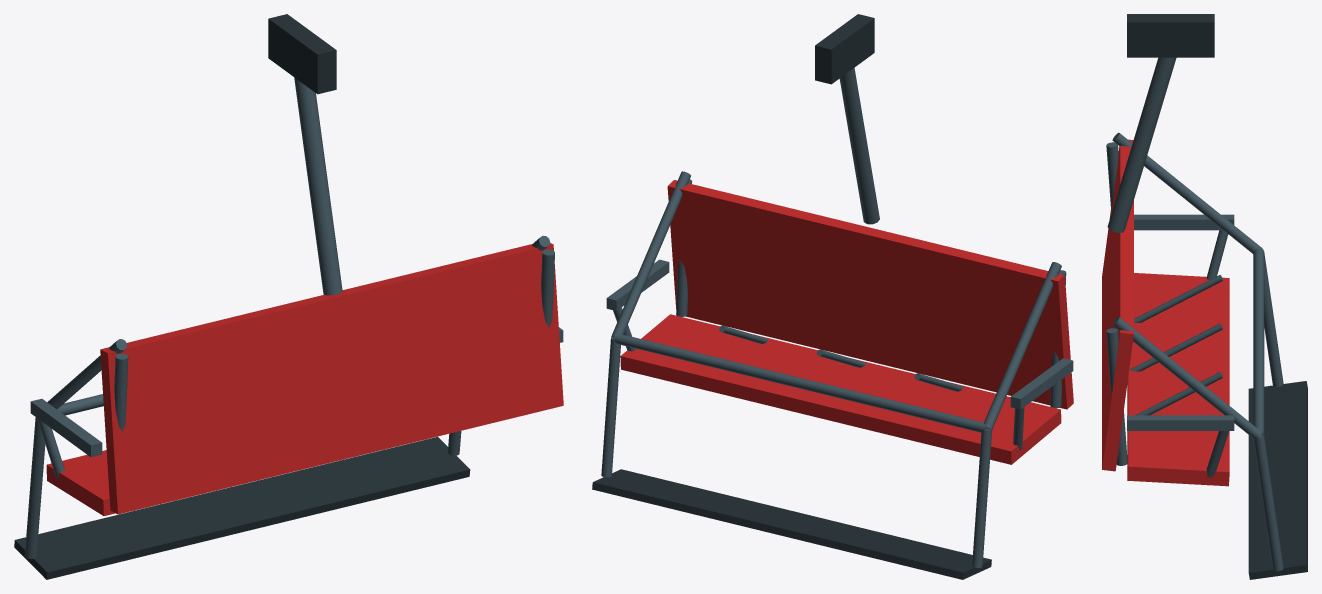
File: chair.glb
3 renders of one model, left to right at view 1: azimuth 30°, elevation 25°; view 2: azimuth 150°, elevation 25°; view 3: azimuth 270°, elevation 25°, orthographic. The views are drawn at different scales.
Visible parts, largest first — view 1: Backrest, Footrest, Hanger, Grip, SafetyBar, SeatPan, Chair, Armrest; view 2: Backrest, SeatPan, SafetyBar, Footrest, Grip, Chair, Hanger, Armrest (×2); view 3: SeatPan, Footrest, SafetyBar, Backrest, Chair, Grip, Hanger, Armrest (×2).
Part boxes in pixels (bbox=[...]): Backrest: bbox=[100, 243, 563, 514]; Footrest: bbox=[14, 436, 470, 579]; Hanger: bbox=[294, 77, 342, 295]; Grip: bbox=[268, 14, 336, 94]; SafetyBar: bbox=[24, 236, 549, 558]; SeatPan: bbox=[46, 450, 115, 515]; Chair: bbox=[37, 249, 554, 478]; Armrest: bbox=[30, 398, 102, 457]; Backrest: bbox=[667, 180, 1073, 409]; SeatPan: bbox=[620, 314, 1061, 464]; SafetyBar: bbox=[601, 171, 1061, 567]; Footrest: bbox=[592, 469, 991, 579]; Grip: bbox=[815, 14, 874, 84]; Chair: bbox=[613, 179, 1066, 450]; Hanger: bbox=[839, 68, 879, 224]; Armrest (×2): bbox=[606, 259, 1073, 409]; SeatPan: bbox=[1127, 273, 1229, 486]; Footrest: bbox=[1248, 381, 1307, 579]; SafetyBar: bbox=[1112, 132, 1283, 571]; Backrest: bbox=[1102, 139, 1133, 471]; Chair: bbox=[1106, 142, 1228, 477]; Grip: bbox=[1127, 14, 1214, 57]; Hanger: bbox=[1107, 57, 1176, 232]; Armrest (×2): bbox=[1127, 214, 1234, 430].
Size of the model in its own units: 2.49 by 2.65 by 1.05.
